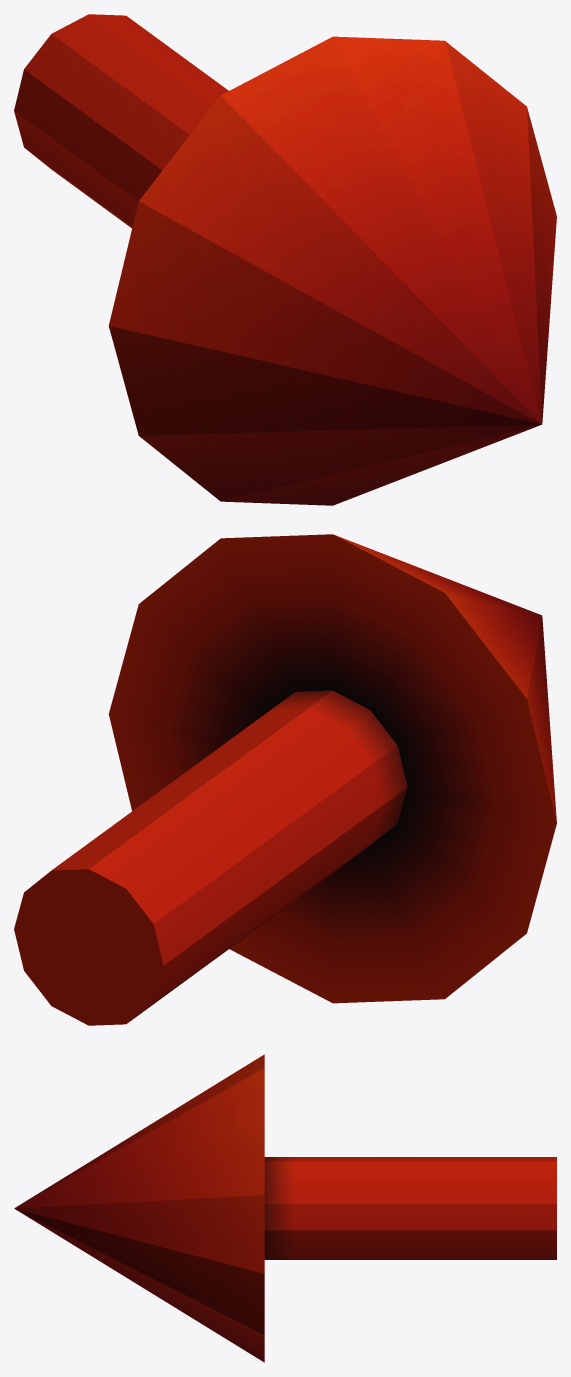
File: arrow.obj
3 views of the same model, one above another, from view 1: azimuth 30°, elevation 25°; view 2: azimuth 150°, elevation 25°; view 3: azimuth 270°, elevation 25° (orthographic). The views are drawn at different scales.
Parts seen in each view (by area): view 1: arrow_sign+.bmp; view 2: arrow_sign+.bmp; view 3: arrow_sign+.bmp.
Boxes of the visible parts, x1=… form: arrow_sign+.bmp: x1=14, y1=14, x2=556, y2=505; arrow_sign+.bmp: x1=14, y1=534, x2=556, y2=1025; arrow_sign+.bmp: x1=14, y1=1054, x2=556, y2=1362.
Bounding box in the file's own units: 2.4 × 2.4 × 4.2.
